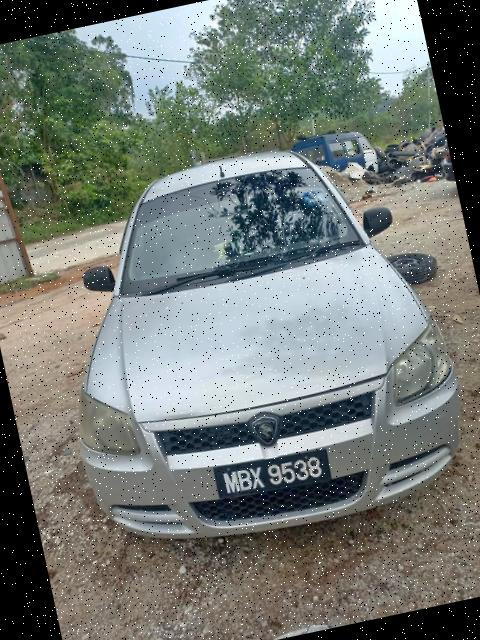License_Plate: (210, 441, 339, 509)
car: (16, 103, 480, 569)
